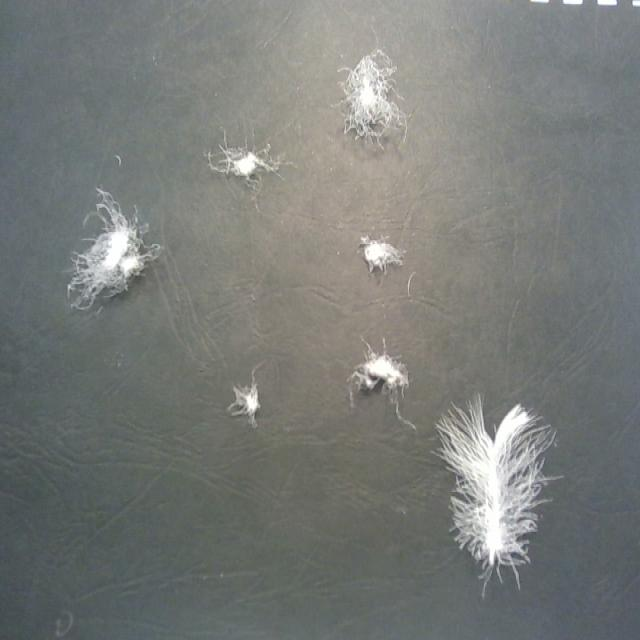feather: (431, 388, 556, 595), (63, 190, 156, 310), (342, 48, 407, 147), (341, 340, 411, 408), (206, 136, 288, 188), (357, 233, 406, 276), (231, 367, 263, 424)
